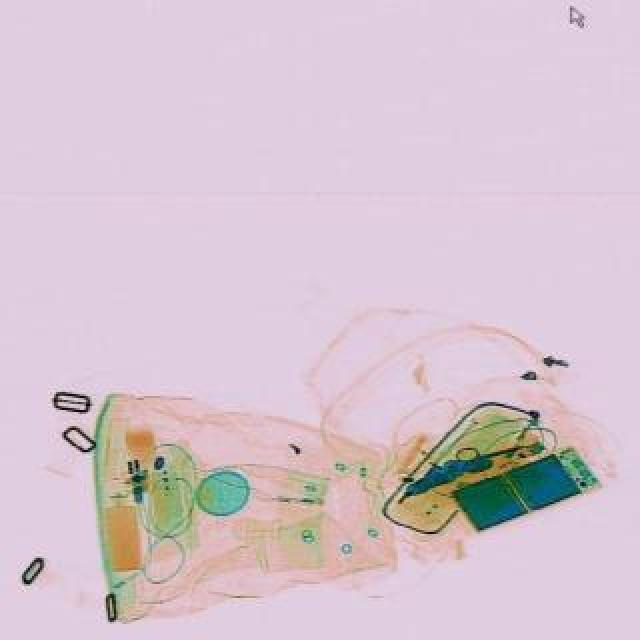pliers: (452, 428, 538, 476)
